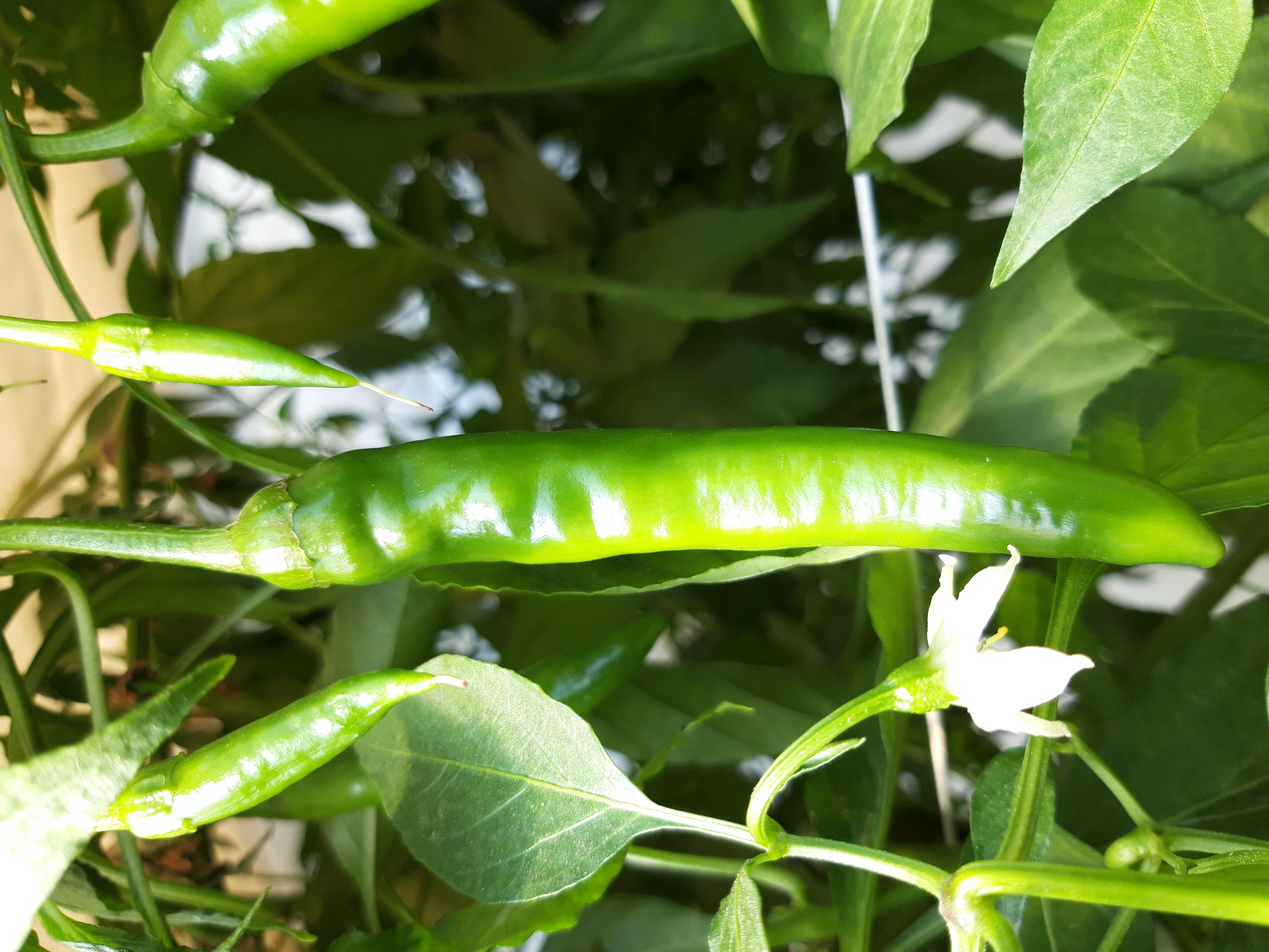Buah Cabai Sehat: (220, 409, 1230, 597), (121, 670, 483, 862)
Daun Cabai Sehat: (983, 0, 1269, 300), (358, 651, 643, 922)
